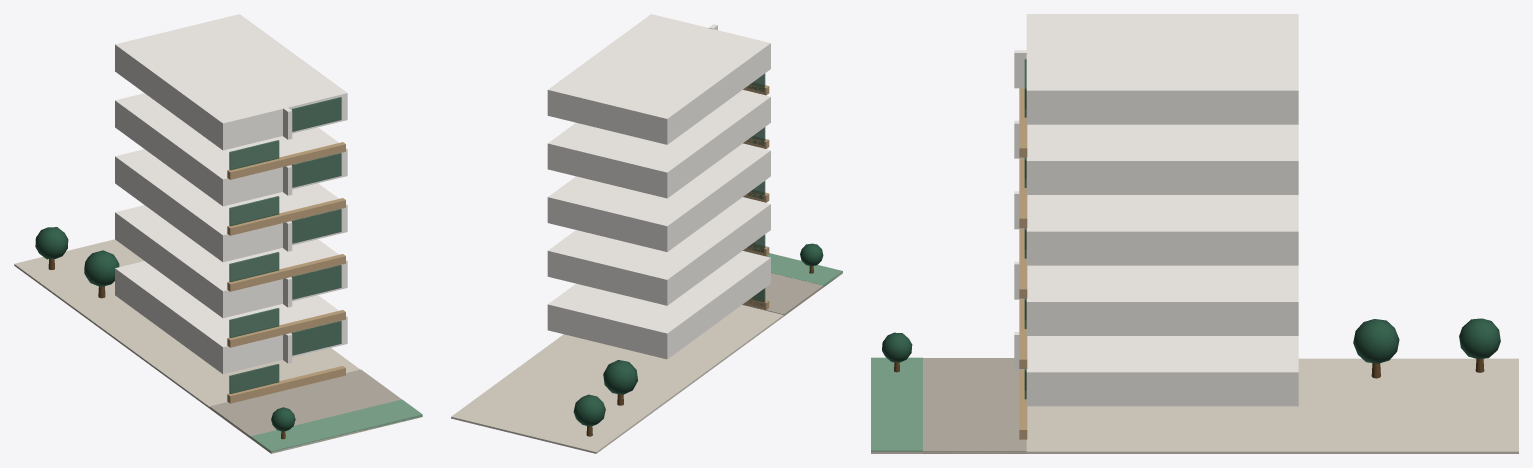
File: monterrey-norte-2.glb
3 renders of one model, left to right at view 1: azimuth 30°, elevation 25°; view 2: azimuth 150°, elevation 25°; view 3: azimuth 270°, elevation 25°, orthographic. The views are drawn at different scales.
Bounding box in the file's own units: 0.17 × 0.303 × 0.5.
